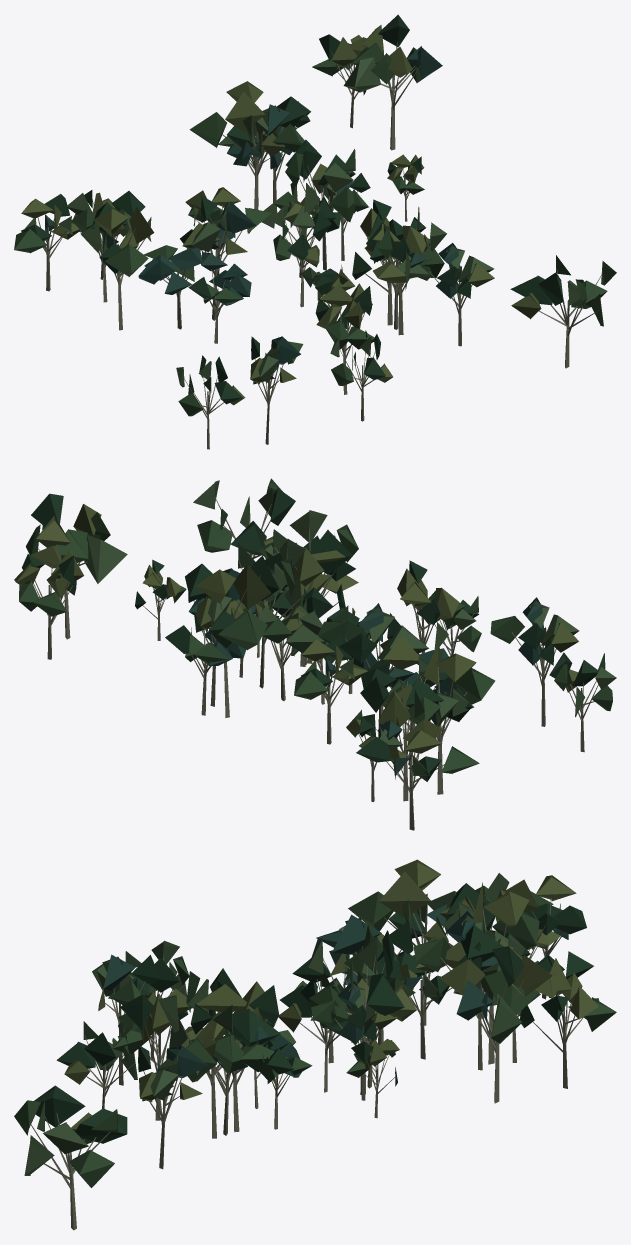
Rendered from forest_18_22.dae.
The picture shows the model from 3 angles, top to bottom: view 1: azimuth 30°, elevation 25°; view 2: azimuth 150°, elevation 25°; view 3: azimuth 270°, elevation 25°; orthographic projection. The views are drawn at different scales.
Visible parts, largest first — view 1: Node; view 2: Node; view 3: Node.
Boxes of the visible parts, x1=… form: Node: x1=14, y1=14, x2=616, y2=449; Node: x1=14, y1=478, x2=616, y2=830; Node: x1=14, y1=859, x2=616, y2=1230.
Bounding box in the file's own units: 12.24 × 12 × 6.95.
